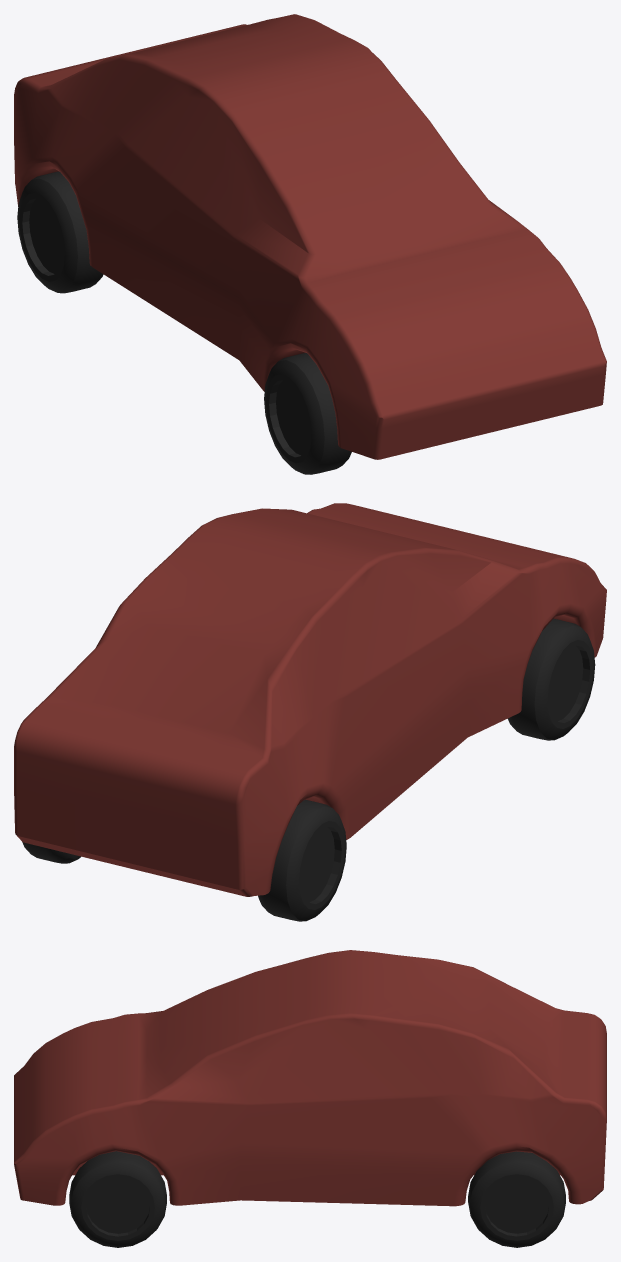
File: carro de juguete.fbx
The picture shows the model from 3 angles, top to bottom: view 1: azimuth 30°, elevation 25°; view 2: azimuth 150°, elevation 25°; view 3: azimuth 270°, elevation 25°; orthographic projection. The views are drawn at different scales.
Visible parts, largest first — view 1: pCylinder4; view 2: pCylinder4; view 3: pCylinder4.
Part boxes in pixels (left/top/right/bottom): pCylinder4: left=14, top=14, right=606, bottom=474; pCylinder4: left=14, top=503, right=606, bottom=921; pCylinder4: left=14, top=950, right=606, bottom=1247.
Bounding box in the file's own units: 7.49 × 6.8 × 17.
